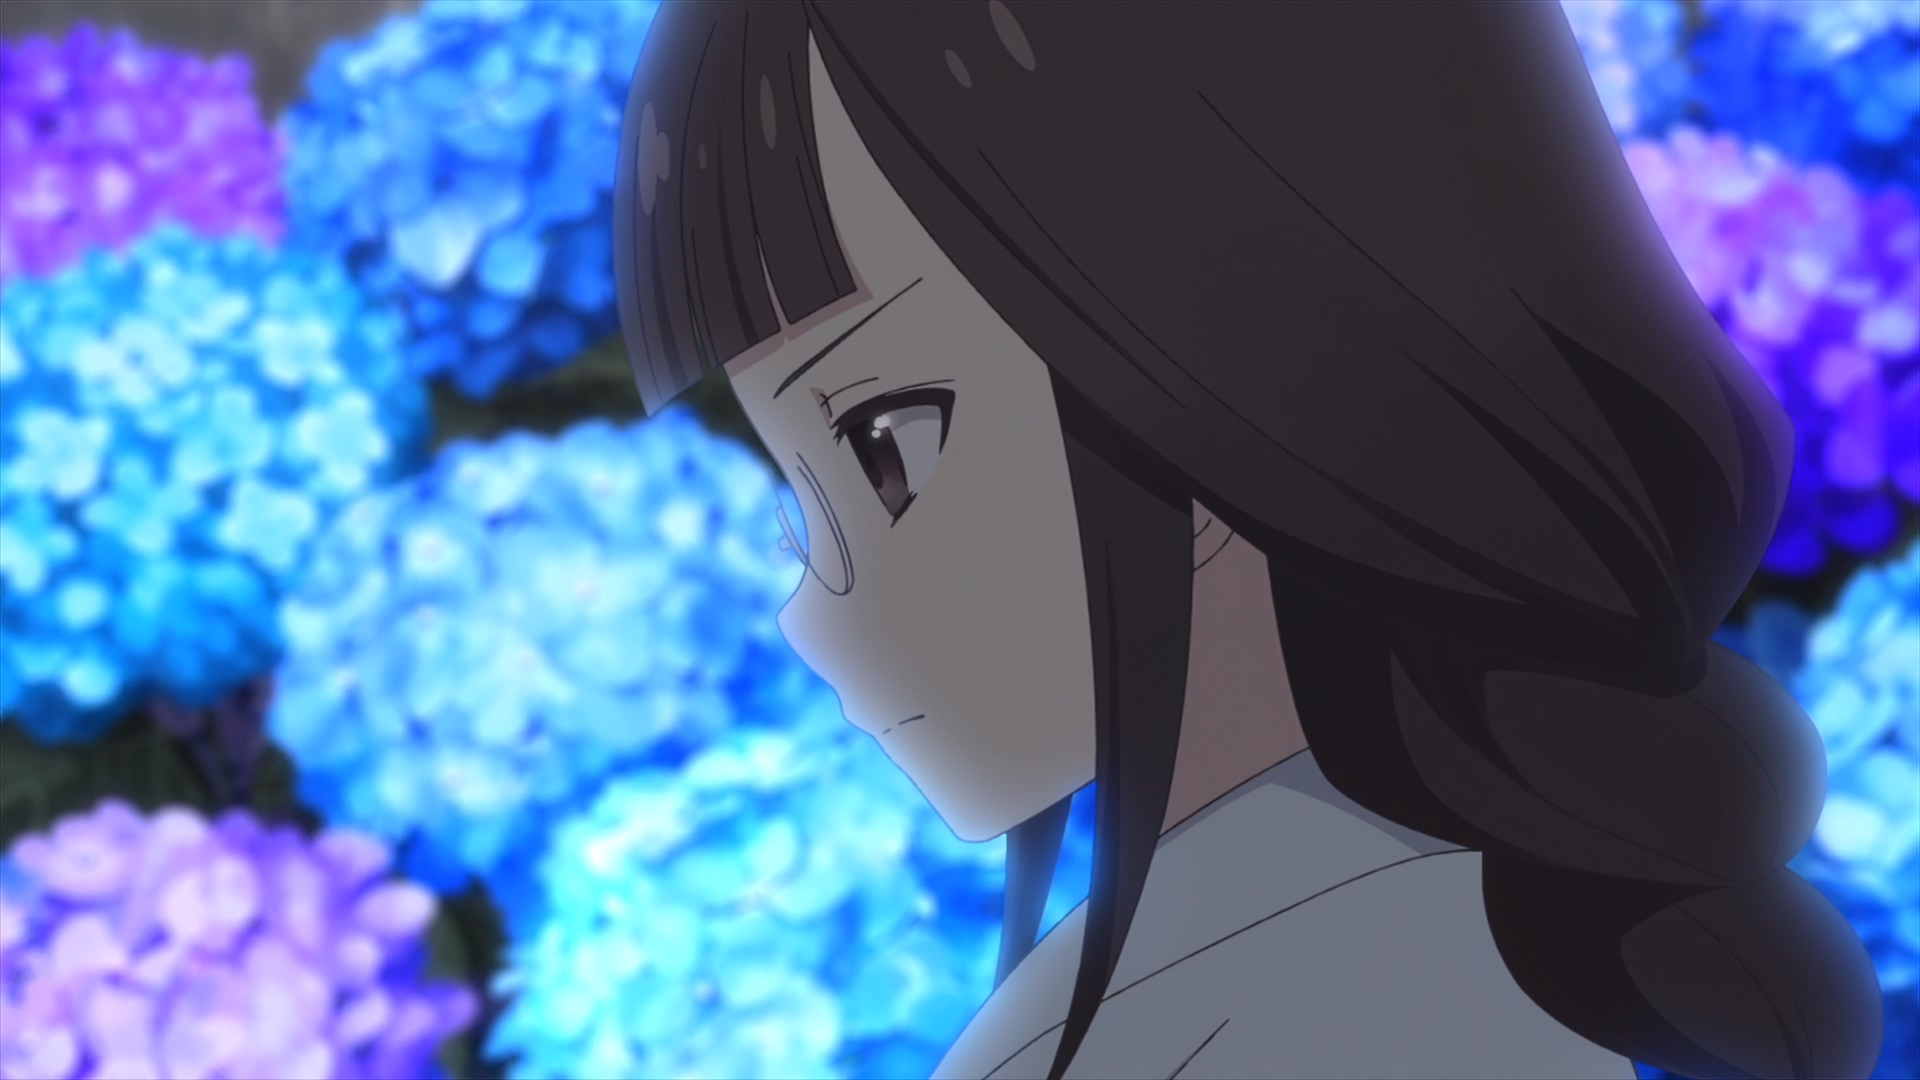其他: (611, 1, 1880, 1080)
